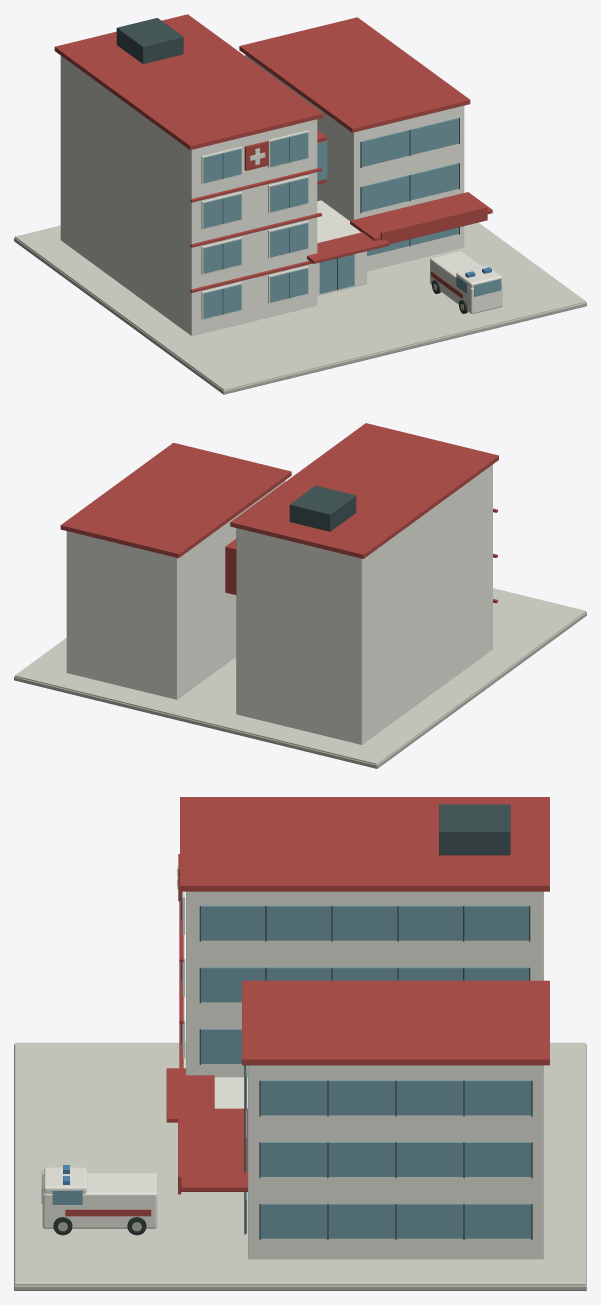
Rendered from medical-hospital.glb.
The picture shows the model from 3 angles, top to bottom: view 1: azimuth 30°, elevation 25°; view 2: azimuth 150°, elevation 25°; view 3: azimuth 270°, elevation 25°; orthographic projection. The views are drawn at different scales.
Parts seen in each view (by area): view 1: MainWard, Paving, MainRoof, SecondaryRoof, SecondaryWard, Lot, MedicalWindowBand.001, MedicalWindowBand.002, EmergencyCanopy, RearPlant, AmbulanceBody, MedicalNameplate.001 (+17 smaller); view 2: MainWard, SecondaryWard, MainRoof, Paving, SecondaryRoof, Lot, RearPlant, BridgeFrame; view 3: Paving, MainRoof, SecondaryWard, SecondaryRoof, MainWard, MedicalSideGlass.003, MedicalSideGlass.004, MedicalSideGlass.006, MedicalSideGlass.005, EmergencyCanopy, MedicalSideGlass.002, AmbulanceBody (+7 smaller).
Boxes of the visible parts, bbox=[...] form: MainWard: bbox=[60, 56, 317, 335]; Paving: bbox=[15, 222, 585, 390]; MainRoof: bbox=[54, 14, 323, 149]; SecondaryRoof: bbox=[239, 17, 470, 132]; SecondaryWard: bbox=[245, 55, 464, 271]; Lot: bbox=[14, 237, 586, 394]; MedicalWindowBand.001: bbox=[361, 163, 458, 212]; MedicalWindowBand.002: bbox=[360, 118, 458, 166]; EmergencyCanopy: bbox=[350, 192, 492, 240]; RearPlant: bbox=[116, 18, 183, 63]; AmbulanceBody: bbox=[430, 251, 502, 313]; MedicalNameplate.001: bbox=[380, 206, 487, 243]; MainWard: bbox=[236, 464, 492, 744]; SecondaryWard: bbox=[66, 480, 285, 699]; MainRoof: bbox=[230, 423, 498, 558]; Paving: bbox=[15, 588, 585, 764]; SecondaryRoof: bbox=[60, 442, 291, 558]; Lot: bbox=[14, 612, 586, 768]; RearPlant: bbox=[289, 485, 356, 531]; BridgeFrame: bbox=[225, 539, 236, 594]; Paving: bbox=[15, 1042, 585, 1285]; MainRoof: bbox=[180, 797, 549, 891]; SecondaryWard: bbox=[248, 1065, 543, 1259]; SecondaryRoof: bbox=[242, 980, 549, 1065]; MainWard: bbox=[186, 891, 543, 1077]; MedicalSideGlass.003: bbox=[200, 905, 529, 940]; MedicalSideGlass.004: bbox=[260, 1203, 531, 1238]; MedicalSideGlass.006: bbox=[260, 1080, 531, 1115]; MedicalSideGlass.005: bbox=[260, 1142, 531, 1176]; EmergencyCanopy: bbox=[181, 1108, 247, 1191]; MedicalSideGlass.002: bbox=[200, 967, 529, 1002]; AmbulanceBody: bbox=[42, 1173, 157, 1228].
Bounding box in the file's own units: 24 × 13.62 × 24.
